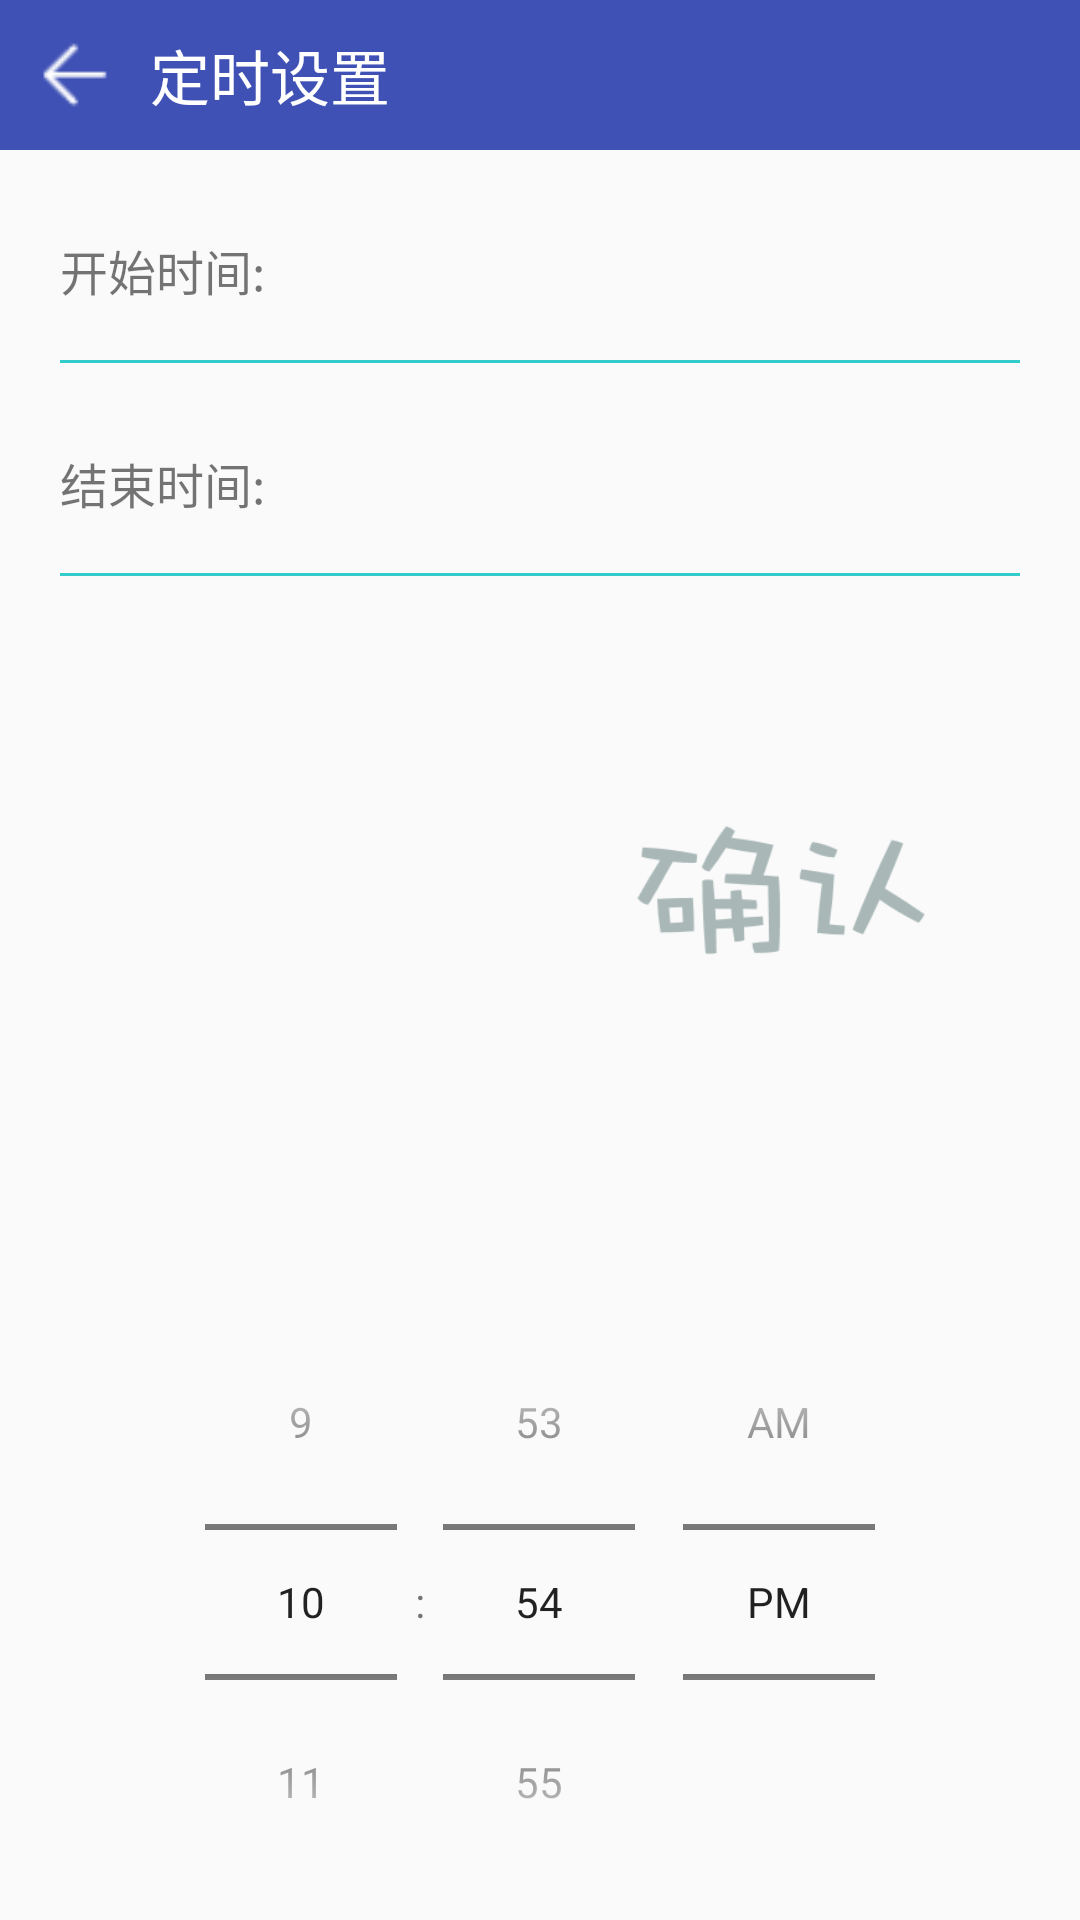

Named icons in this screenshot (1080px×1920px) and their centers, point (x, y):
back: point (75, 74)
